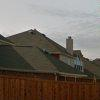Chimney: (61, 26, 87, 65)
